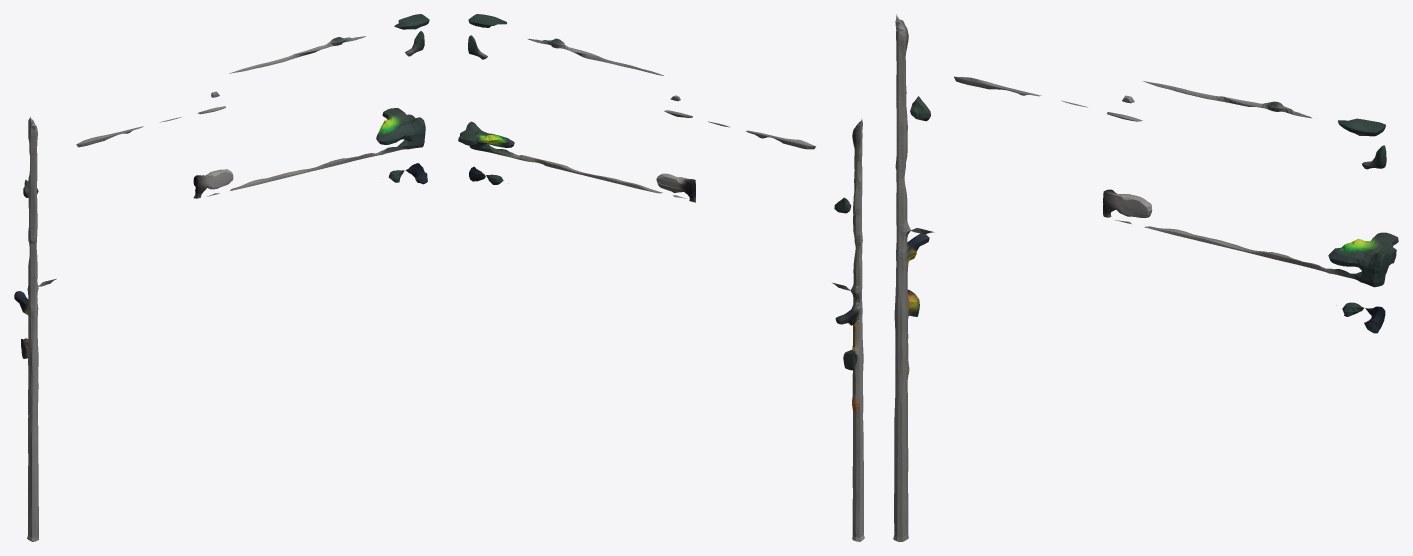
The picture shows the model from 3 angles, left to right: view 1: azimuth 30°, elevation 25°; view 2: azimuth 150°, elevation 25°; view 3: azimuth 330°, elevation 25°; orthographic projection. The views are drawn at different scales.
Parts seen in each view (by area): view 1: tmpihrdf6br.ply; view 2: tmpihrdf6br.ply; view 3: tmpihrdf6br.ply.
Part boxes in pixels (left/top/right/bottom): tmpihrdf6br.ply: left=14, top=14, right=429, bottom=541; tmpihrdf6br.ply: left=458, top=14, right=864, bottom=541; tmpihrdf6br.ply: left=893, top=14, right=1398, bottom=541.
Bounding box in the file's own units: 1.91 × 1.98 × 0.2294.
